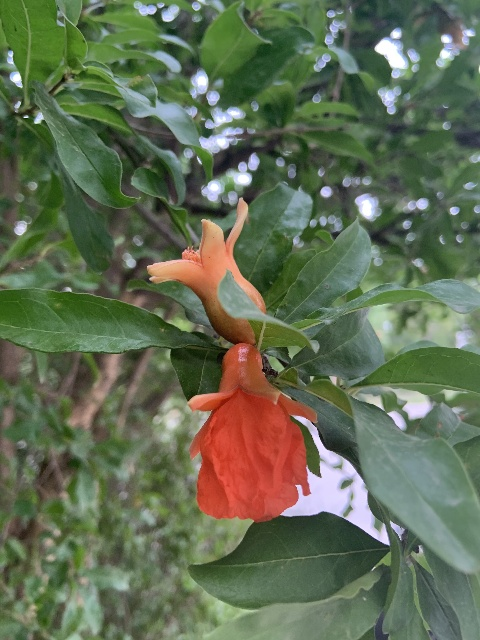early-fruit: (146, 197, 266, 343)
flower: (187, 342, 317, 523)
